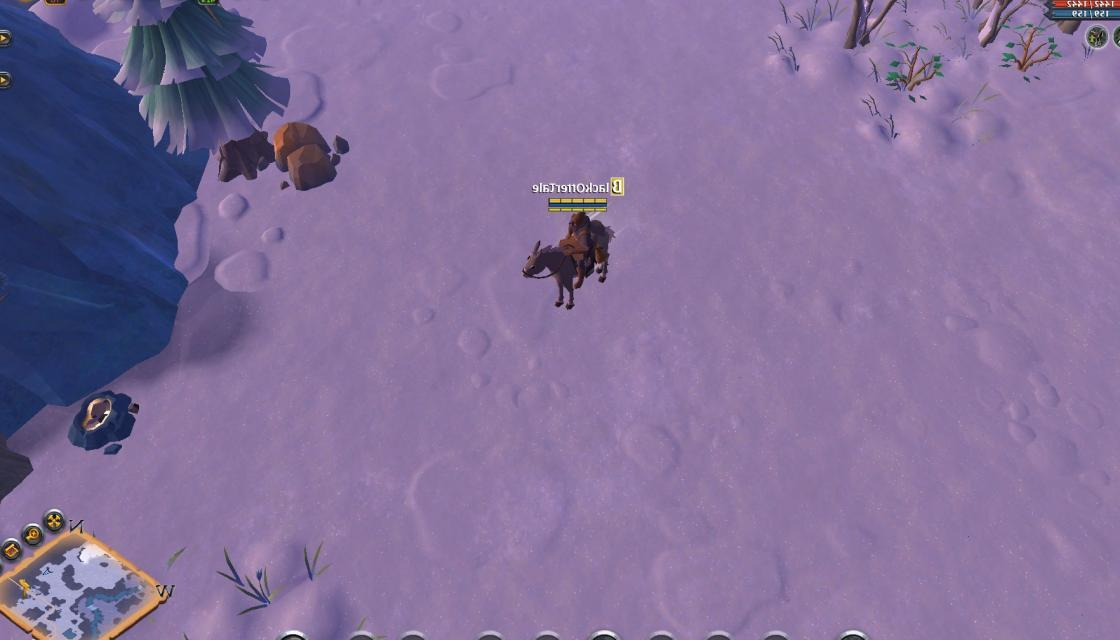limestone: (272, 116, 346, 186)
